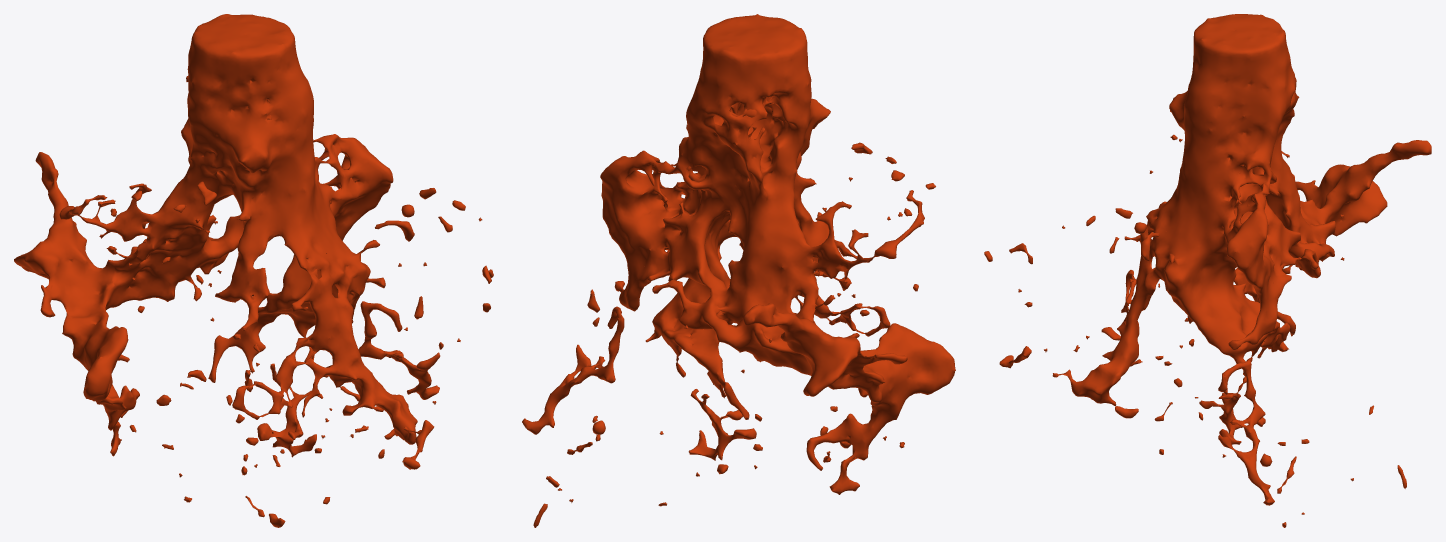
File: iphone.gltf
The picture shows the model from 3 angles, left to right: view 1: azimuth 30°, elevation 25°; view 2: azimuth 150°, elevation 25°; view 3: azimuth 270°, elevation 25°; orthographic projection. The views are drawn at different scales.
Parts seen in each view (by area): view 1: mesh_2__0; view 2: mesh_2__0; view 3: mesh_2__0.
Part boxes in pixels (box(x1,y1,x2,y2)): mesh_2__0: box(14, 14, 493, 527); mesh_2__0: box(522, 14, 955, 527); mesh_2__0: box(984, 14, 1431, 527).
Size of the model in its own units: 4.45 by 5.11 by 4.9.
